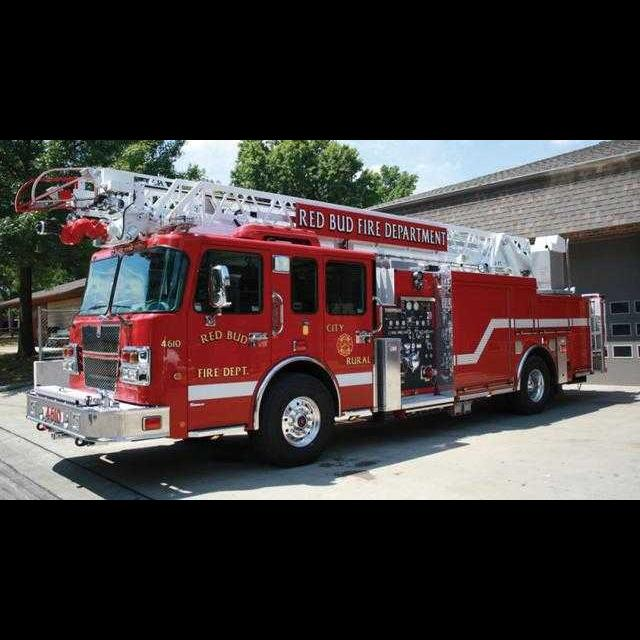emergency: (13, 166, 599, 467)
